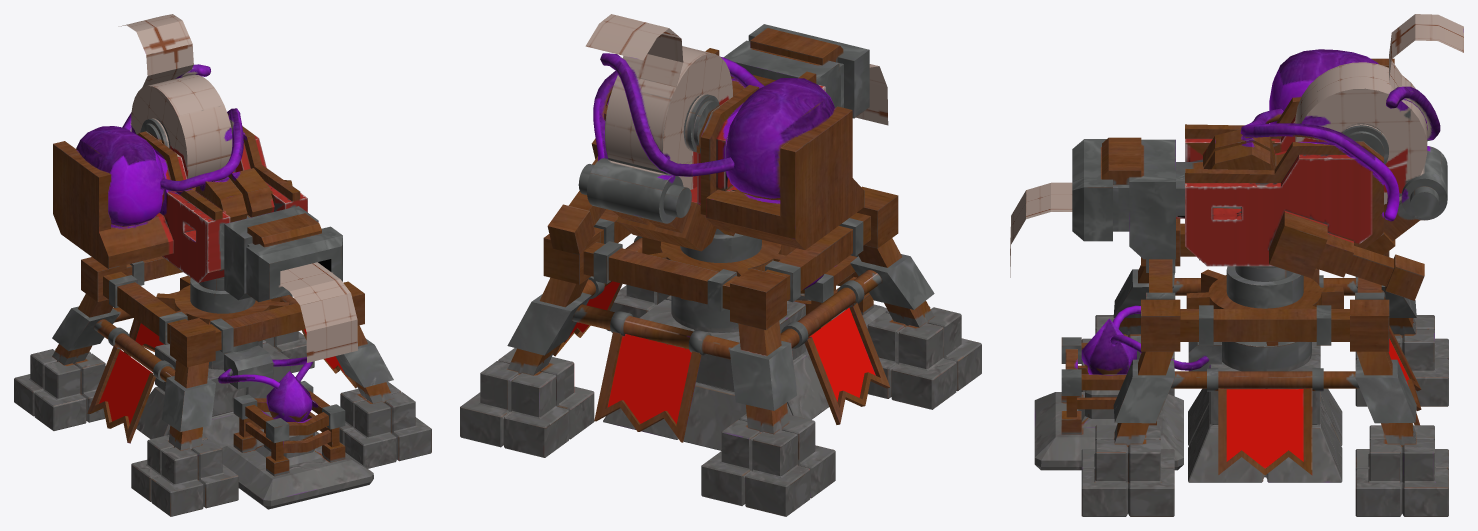
The model's file is Ticket_Tower.glb.
3 views of the same model, side by side, from view 1: azimuth 30°, elevation 25°; view 2: azimuth 150°, elevation 25°; view 3: azimuth 270°, elevation 25° (orthographic). The views are drawn at different scales.
Parts seen in each view (by area): view 1: Cube.015; view 2: Cube.015; view 3: Cube.015.
Boxes of the visible parts, x1,y1,x2,y2 form: Cube.015: (14, 14, 431, 516); Cube.015: (460, 14, 981, 516); Cube.015: (1010, 14, 1463, 516).
Size of the model in its own units: 5.43 by 7.11 by 6.95.
1 material, 1 textured.
